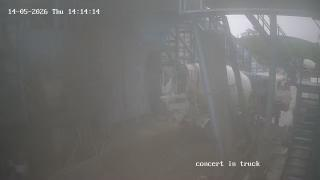cement_mixer_truck: (159, 55, 291, 130)
